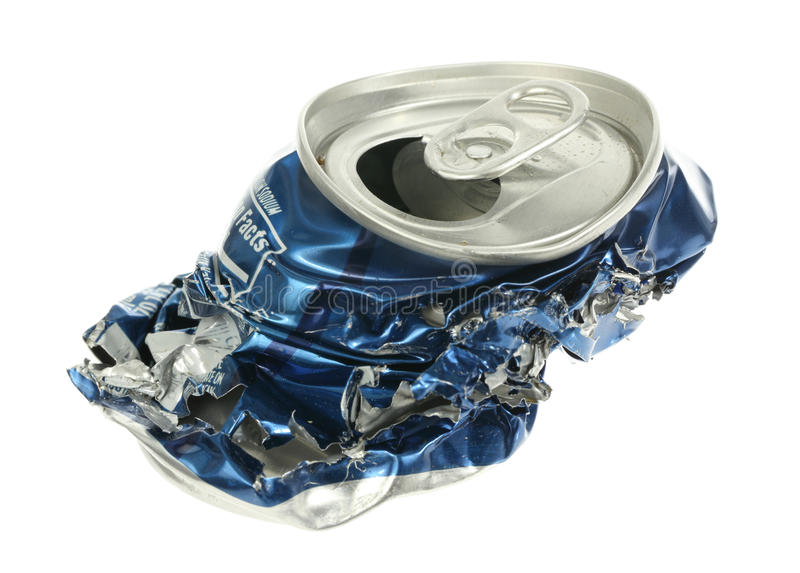can: (67, 61, 720, 532)
